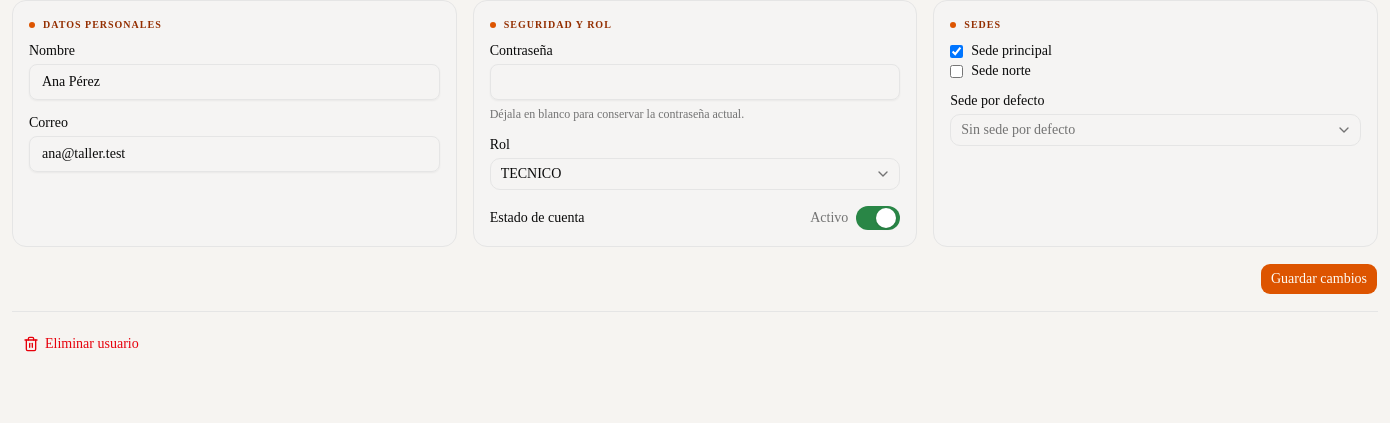
Test case: EditarUsuarioForm › shows why the delete was refused
Click the button "Eliminar usuario".
click(81, 344)  # box [12, 328, 150, 360]
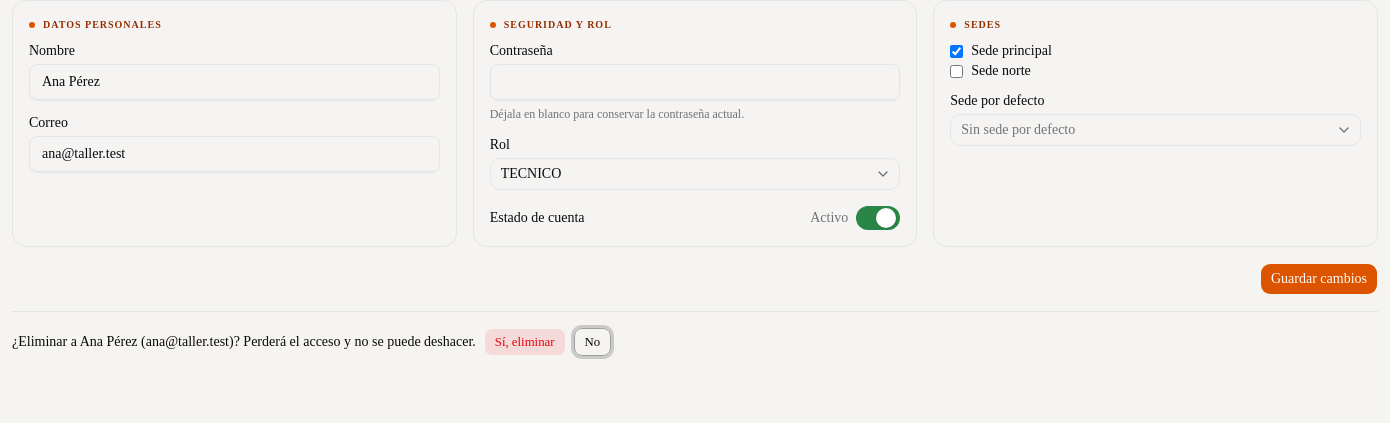
Click the button "Sí, eliminar".
click(525, 342)  # box [484, 328, 566, 356]
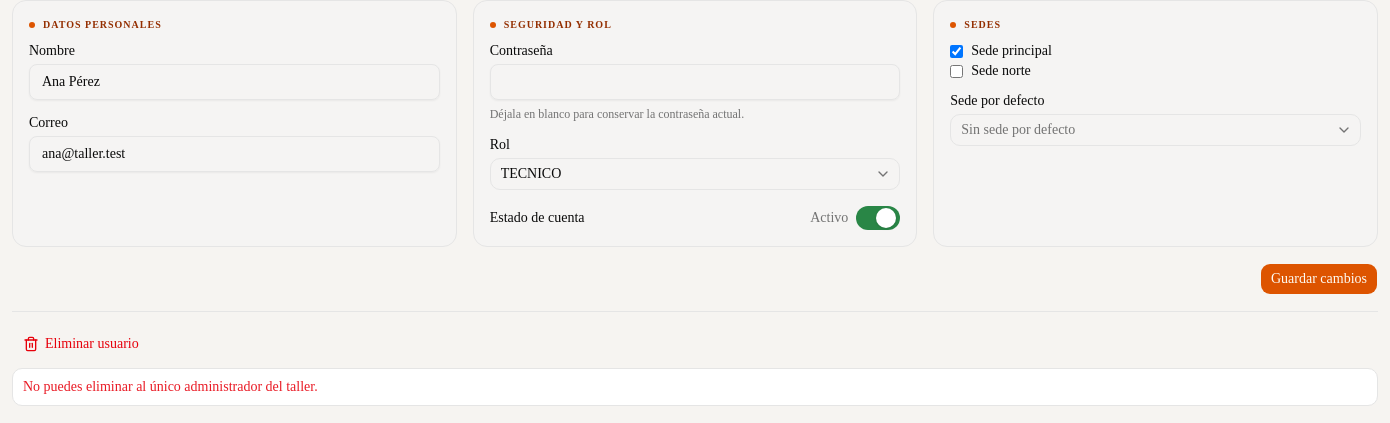
Check: the message shows "único administrador", box [23, 379, 318, 394]
